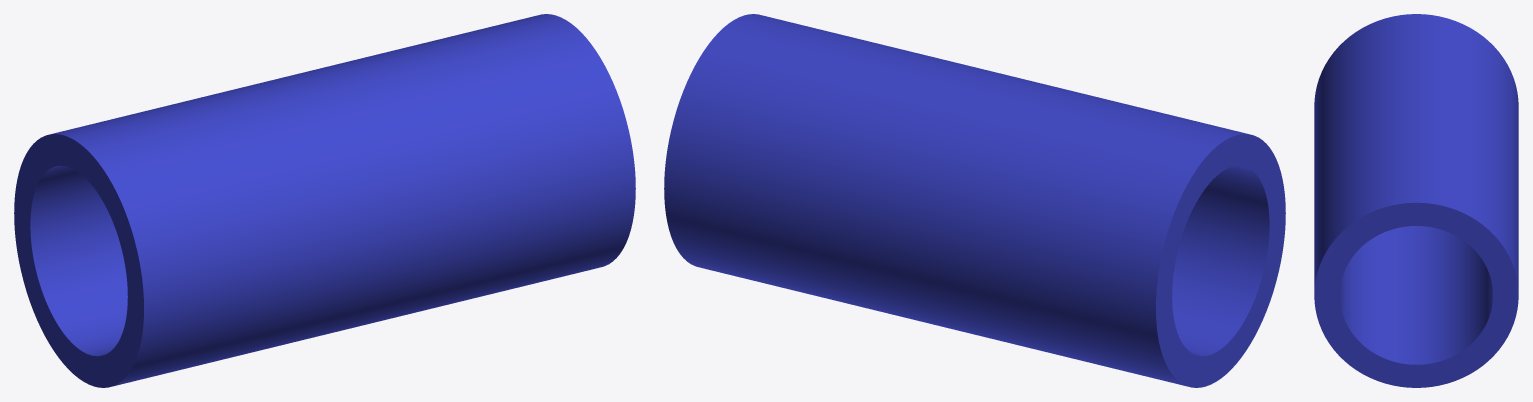
File: tunnel.fbx
The picture shows the model from 3 angles, left to right: view 1: azimuth 30°, elevation 25°; view 2: azimuth 150°, elevation 25°; view 3: azimuth 270°, elevation 25°; orthographic projection. The views are drawn at different scales.
Visible parts, largest first — view 1: root; view 2: root; view 3: root.
Part boxes in pixels (<box>): root: <box>14,14,635,387</box>; root: <box>664,14,1285,387</box>; root: <box>1314,14,1518,387</box>.
Size of the model in its own units: 1.2 by 0.5505 by 0.5505.
